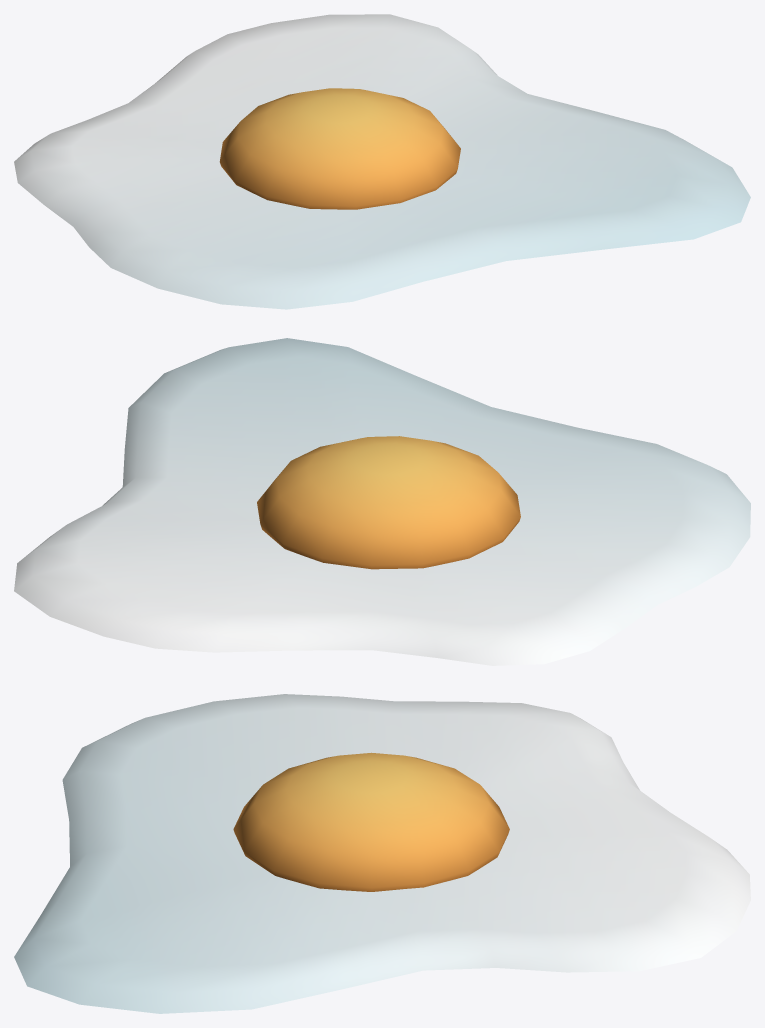
File: SM_Egg_Splat.fbx
3 renders of one model, top to bottom at view 1: azimuth 30°, elevation 25°; view 2: azimuth 150°, elevation 25°; view 3: azimuth 270°, elevation 25°, orthographic. The views are drawn at different scales.
Parts seen in each view (by area): view 1: SM_Egg_Splat; view 2: SM_Egg_Splat; view 3: SM_Egg_Splat.
Part boxes in pixels (x1,y1,x2,y2): SM_Egg_Splat: (14, 14, 750, 309); SM_Egg_Splat: (14, 338, 750, 665); SM_Egg_Splat: (14, 694, 750, 1013).
Bounding box in the file's own units: 99.84 × 10.65 × 98.57.
